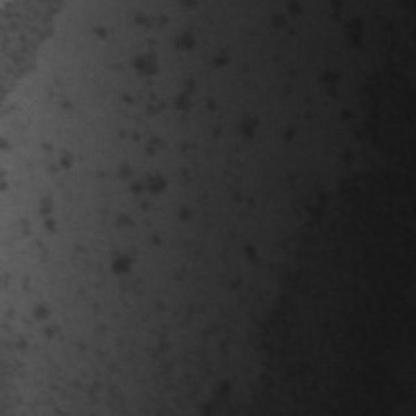pitted_surface: (239, 42, 412, 414), (71, 27, 231, 364), (2, 23, 77, 368)
